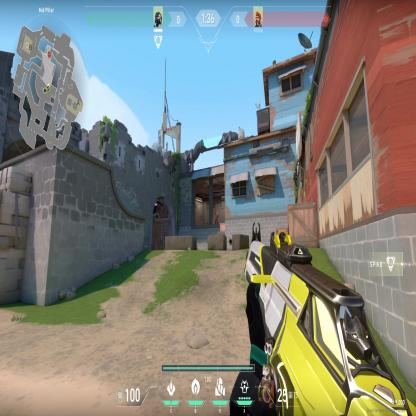enemy: (214, 208, 218, 225)
